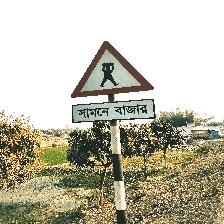Market-in-front: (70, 41, 156, 123)
